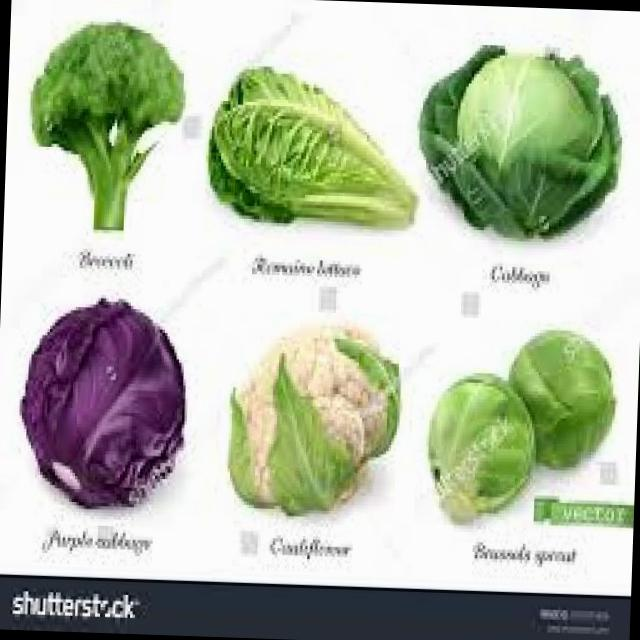Lettuce-Ready-to-Harvest: (419, 46, 620, 237), (21, 300, 185, 507), (208, 66, 416, 227), (228, 330, 400, 514), (32, 23, 184, 231), (429, 373, 533, 520), (509, 330, 615, 467)
